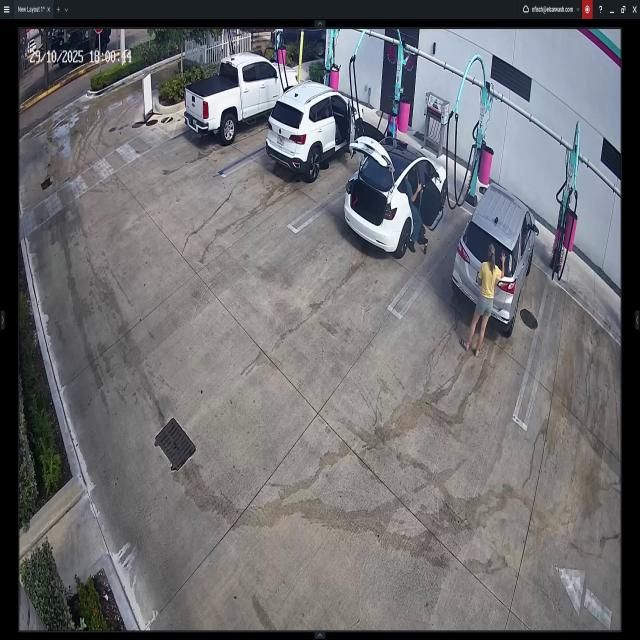Car: (453, 182, 538, 338), (342, 136, 448, 258), (184, 49, 300, 147), (264, 80, 364, 180), (271, 26, 326, 58)
